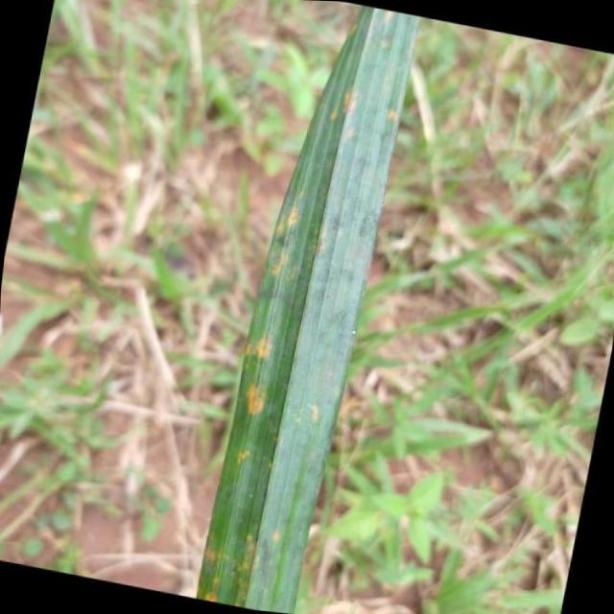Kalium: (198, 0, 421, 614)
